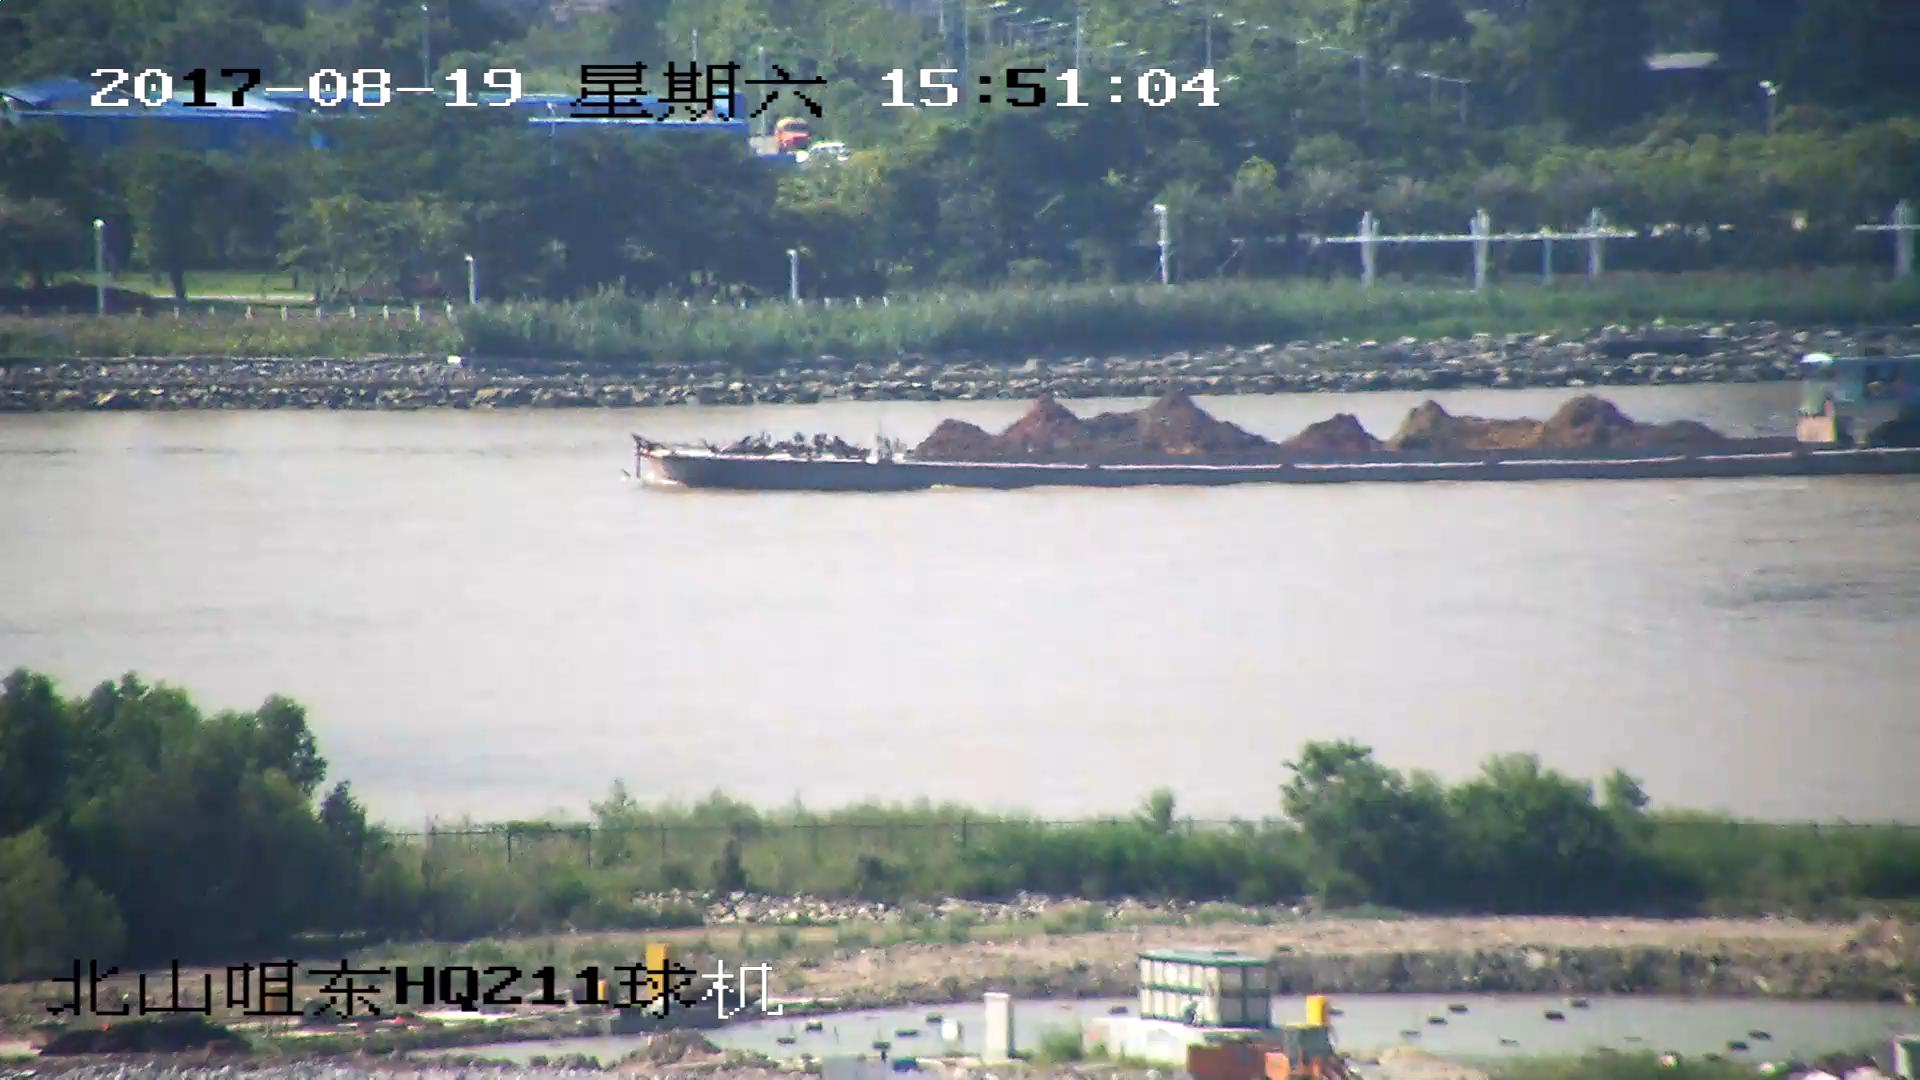ore carrier: (631, 349, 1920, 496)
